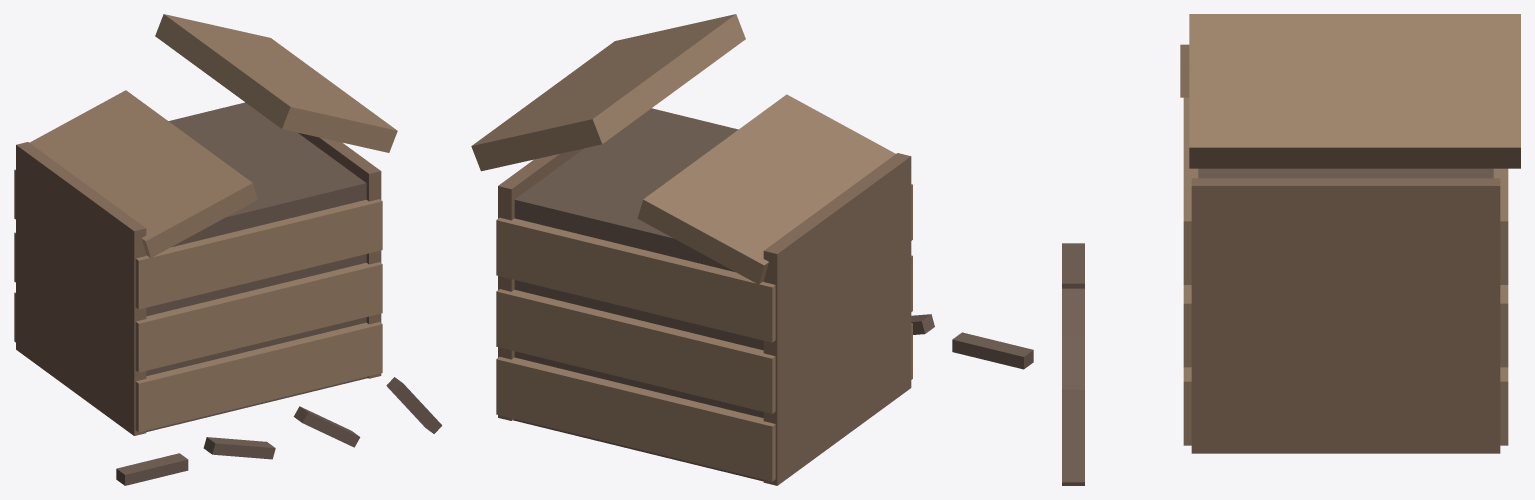
Rendered from Splintered_Crate.glb.
3 renders of one model, left to right at view 1: azimuth 30°, elevation 25°; view 2: azimuth 150°, elevation 25°; view 3: azimuth 270°, elevation 25°, orthographic. The views are drawn at different scales.
Parts seen in each view (by area): view 1: Splintered_Crate_piece_007, Splintered_Crate_piece_009, Splintered_Crate_piece_000, Splintered_Crate_piece_001, Splintered_Crate_piece_003, Splintered_Crate_piece_005, Splintered_Crate_piece_010, Splintered_Crate_piece_008, Splintered_Crate_piece_011, Splintered_Crate_piece_012, Splintered_Crate_piece_013, Splintered_Crate_piece_014; view 2: Splintered_Crate_piece_007, Splintered_Crate_piece_009, Splintered_Crate_piece_000, Splintered_Crate_piece_004, Splintered_Crate_piece_002, Splintered_Crate_piece_006, Splintered_Crate_piece_010, Splintered_Crate_piece_008, Splintered_Crate_piece_011; view 3: Splintered_Crate_piece_008, Splintered_Crate_piece_010, Splintered_Crate_piece_000, Splintered_Crate_piece_014, Splintered_Crate_piece_005, Splintered_Crate_piece_013, Splintered_Crate_piece_006, Splintered_Crate_piece_012, Splintered_Crate_piece_011, Splintered_Crate_piece_003, Splintered_Crate_piece_004, Splintered_Crate_piece_001 (+2 smaller).
Part boxes in pixels (x1,y1,x2,y2): Splintered_Crate_piece_007: (16, 142, 146, 435); Splintered_Crate_piece_009: (29, 90, 257, 257); Splintered_Crate_piece_000: (146, 102, 367, 431); Splintered_Crate_piece_001: (135, 322, 382, 432); Splintered_Crate_piece_003: (135, 262, 382, 372); Splintered_Crate_piece_005: (135, 199, 382, 309); Splintered_Crate_piece_010: (155, 14, 397, 152); Splintered_Crate_piece_008: (298, 133, 381, 378); Splintered_Crate_piece_011: (116, 453, 188, 485); Splintered_Crate_piece_012: (203, 437, 275, 459); Splintered_Crate_piece_013: (293, 406, 360, 447); Splintered_Crate_piece_014: (386, 377, 442, 433); Splintered_Crate_piece_007: (763, 153, 911, 485); Splintered_Crate_piece_009: (637, 94, 895, 284); Splintered_Crate_piece_000: (513, 108, 763, 481); Splintered_Crate_piece_004: (496, 289, 775, 413); Splintered_Crate_piece_002: (496, 356, 775, 481); Splintered_Crate_piece_006: (496, 217, 775, 342); Splintered_Crate_piece_010: (471, 14, 745, 171); Splintered_Crate_piece_008: (498, 148, 583, 420); Splintered_Crate_piece_011: (952, 332, 1033, 369); Splintered_Crate_piece_008: (1191, 178, 1500, 453); Splintered_Crate_piece_010: (1189, 14, 1520, 168); Splintered_Crate_piece_000: (1198, 168, 1493, 178); Splintered_Crate_piece_014: (1062, 389, 1084, 485); Splintered_Crate_piece_005: (1183, 97, 1198, 284); Splintered_Crate_piece_013: (1062, 337, 1084, 389); Splintered_Crate_piece_006: (1493, 168, 1508, 284); Splintered_Crate_piece_012: (1062, 288, 1084, 336); Splintered_Crate_piece_011: (1062, 243, 1084, 288); Splintered_Crate_piece_003: (1183, 285, 1191, 367); Splintered_Crate_piece_004: (1500, 285, 1508, 367); Splintered_Crate_piece_001: (1183, 367, 1191, 445).
Bounding box in the file's own units: 1.07 × 0.9996 × 1.01.
